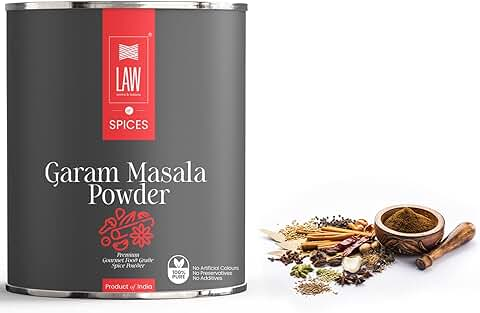Garamasala: (5, 2, 250, 303)
